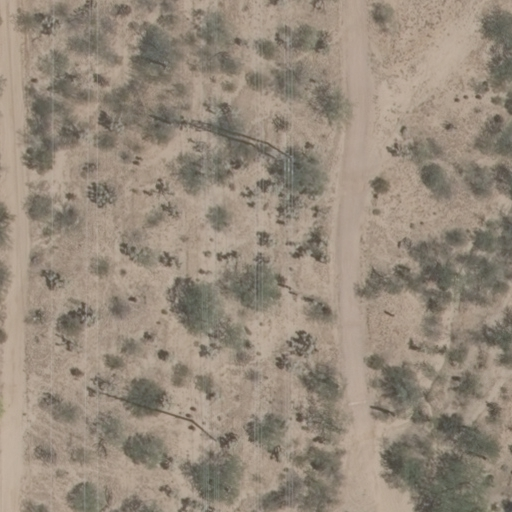DT: (188, 419, 220, 443)
TT: (256, 138, 290, 162)
